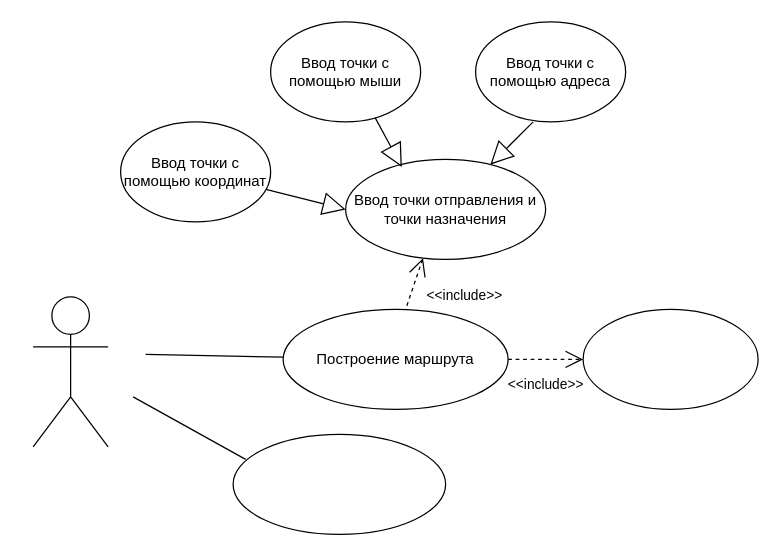
Image size: 780x556. Some labels were removed from this diagram. The centre of each missing label's shape, as x and y in pixels:
Пользователь: pixel 70 371
Просмотр карты осадков: pixel 339 483
Просмотр количества осадков на маршруте: pixel 670 358
